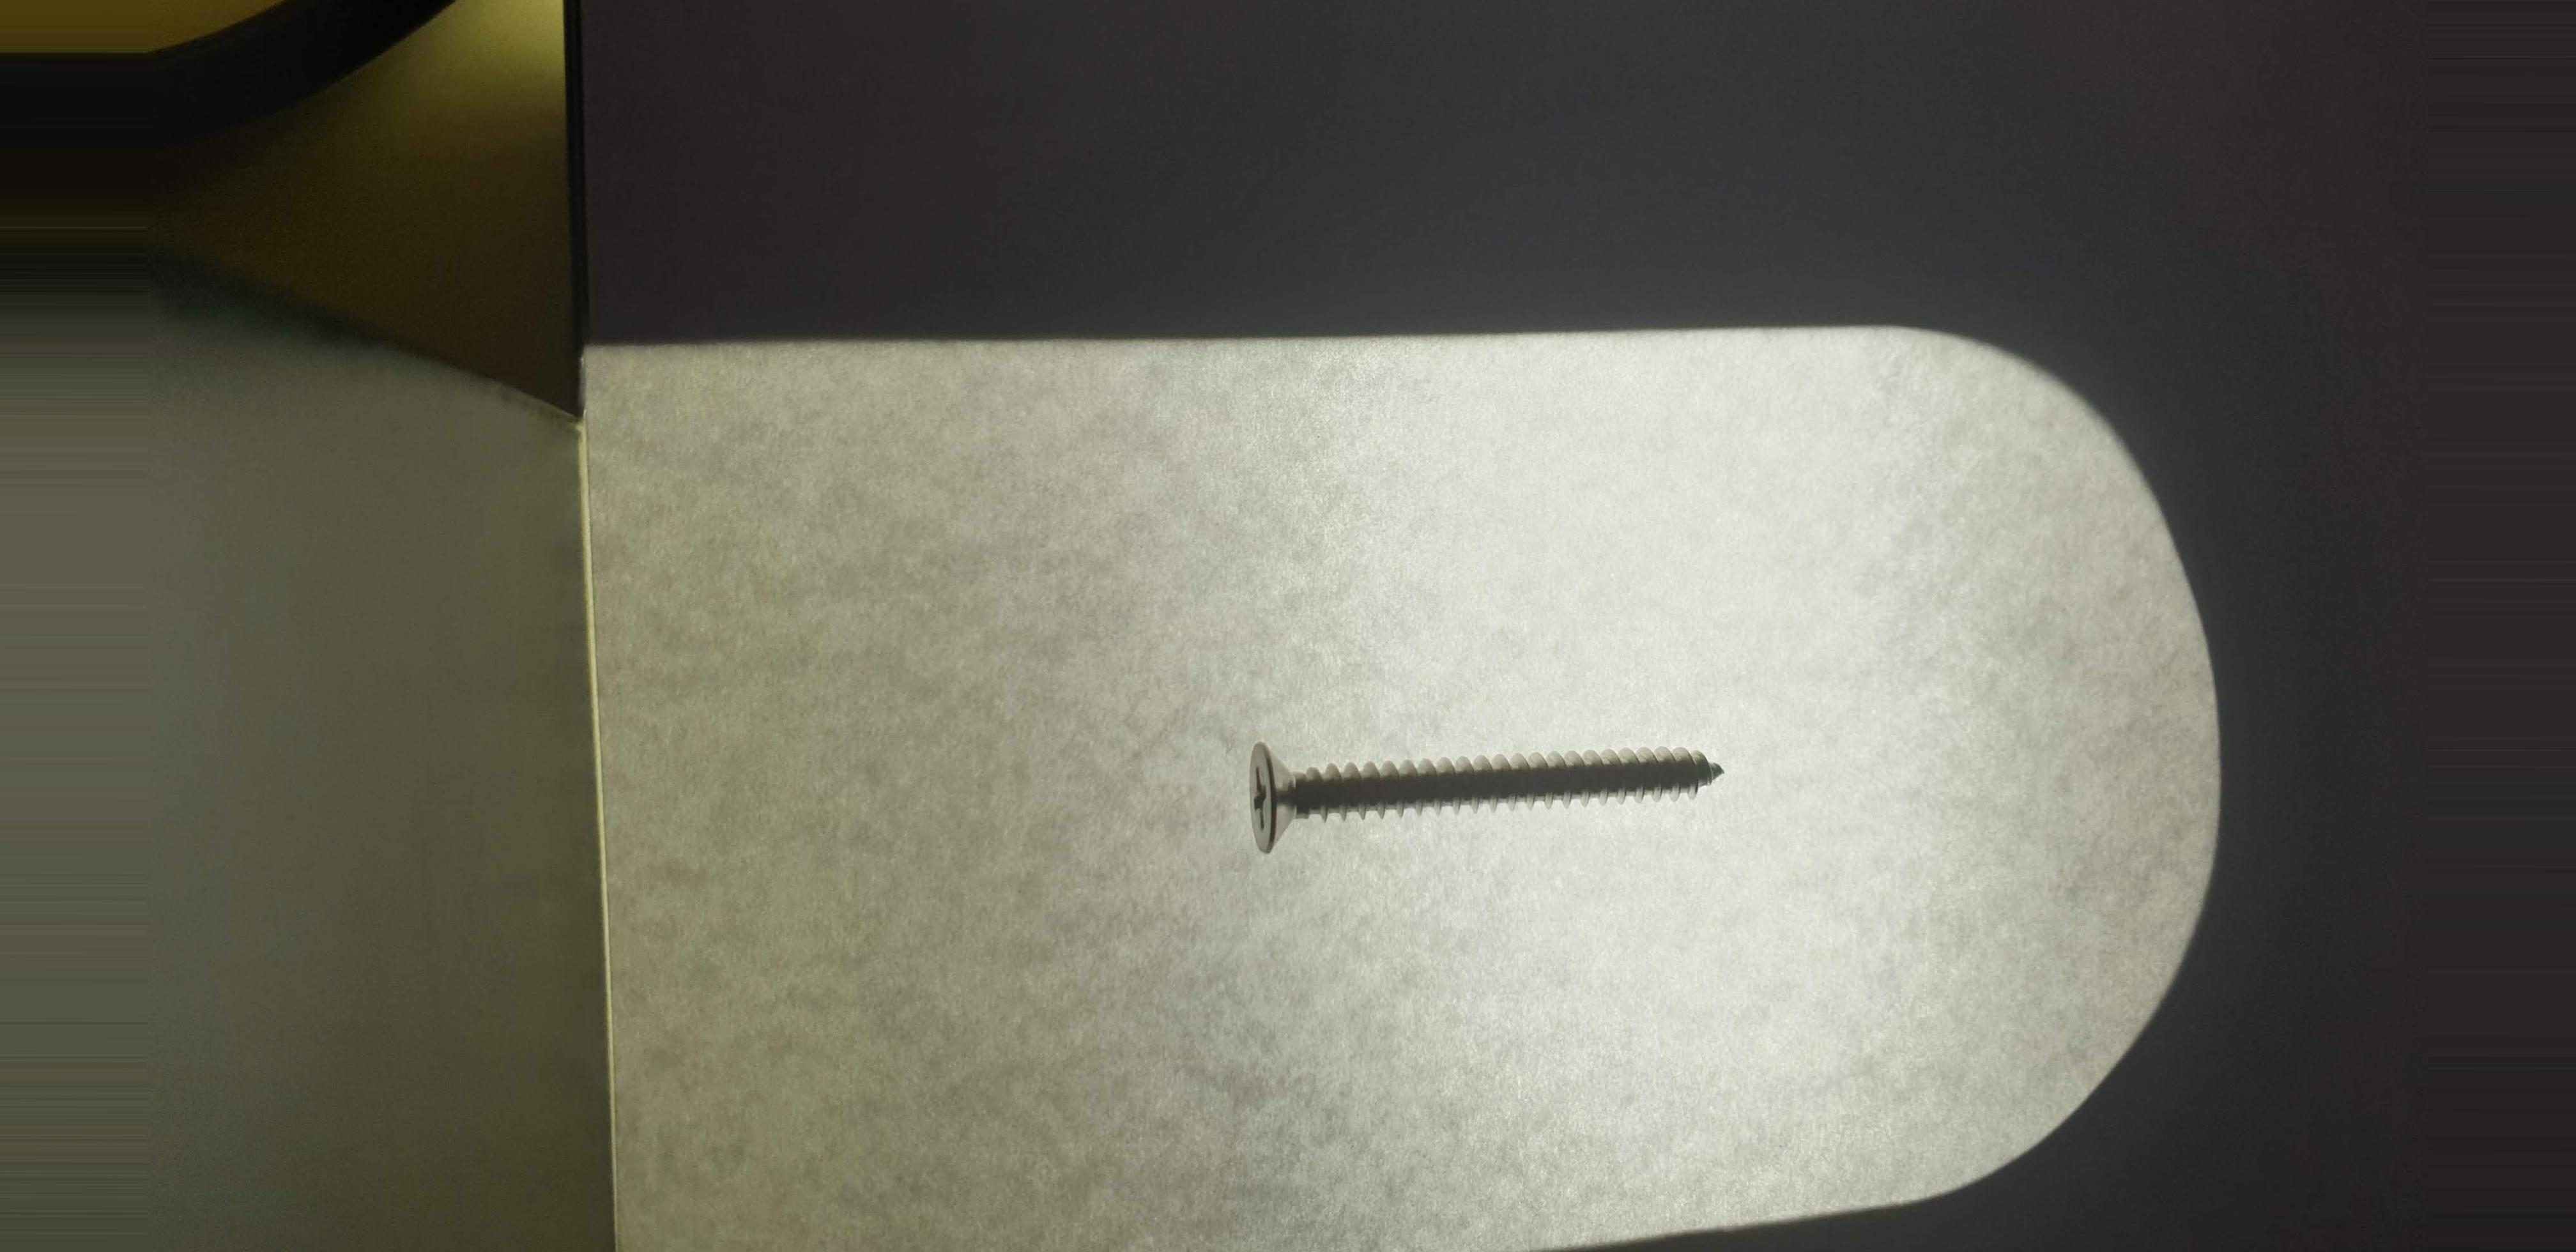S001: (1211, 700, 1776, 876)
